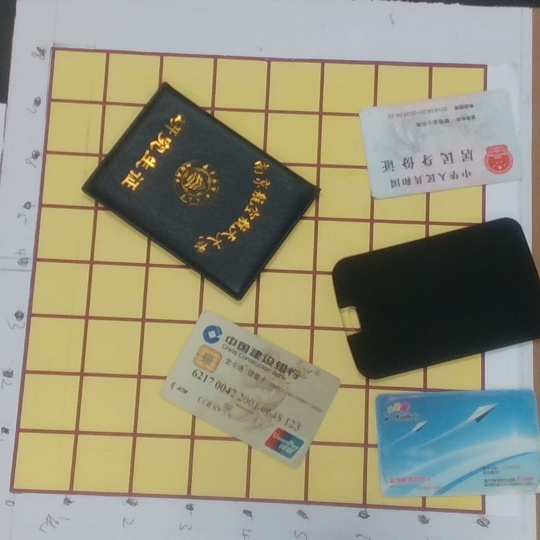card: (158, 307, 343, 469), (359, 88, 529, 200), (376, 387, 540, 501)
wallet: (79, 78, 321, 304), (327, 216, 540, 378)
